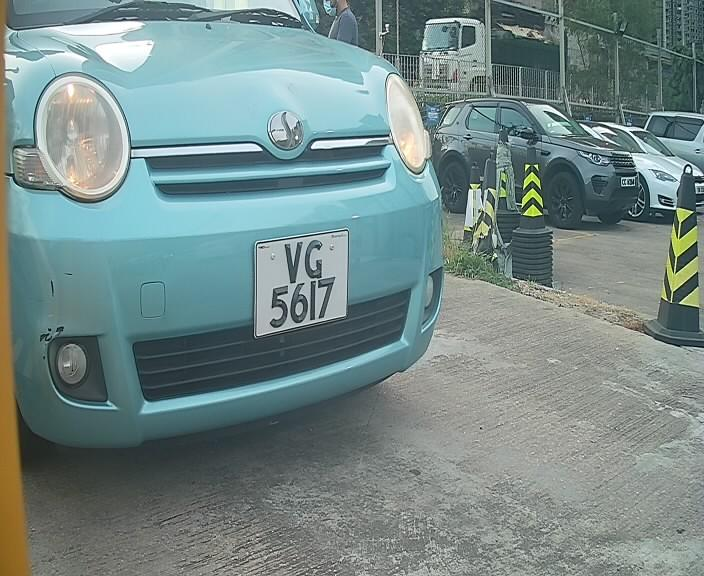License Plate: (249, 222, 356, 345)
